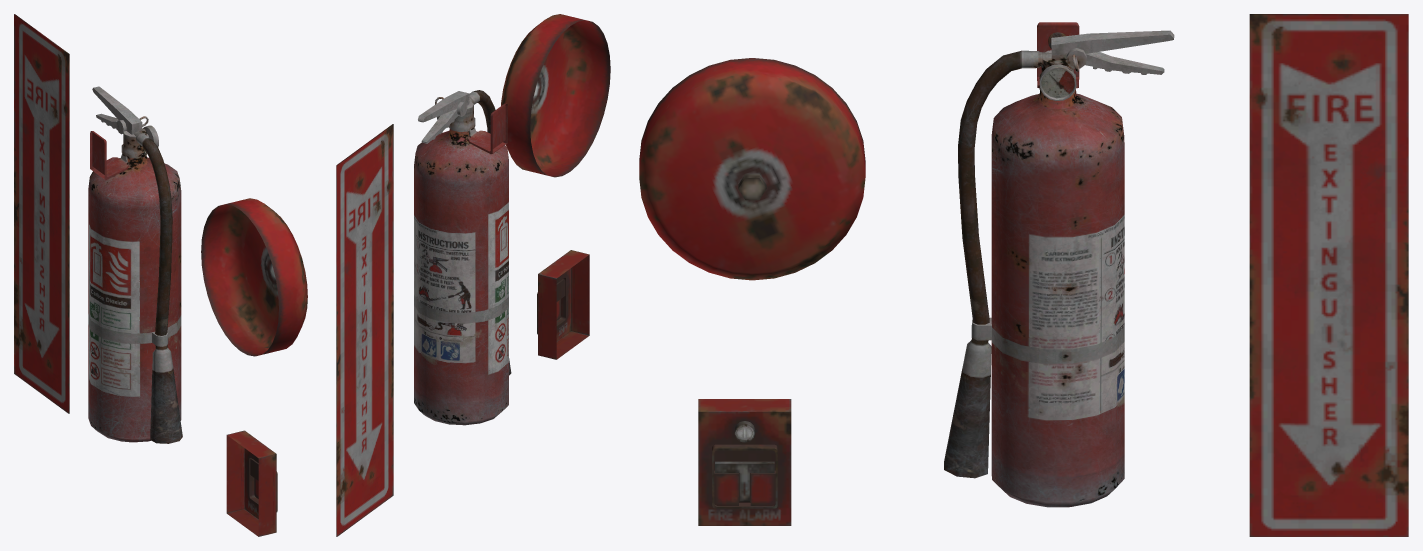
File: poppy_playtime_3_fire_extinguisher_pack.glb
3 views of the same model, side by side, from view 1: azimuth 30°, elevation 25°; view 2: azimuth 150°, elevation 25°; view 3: azimuth 270°, elevation 25° (orthographic). The views are drawn at different scales.
Visible parts, largest first — view 1: SM_Fire_Extinguisher.mo, SM_Fire_safety_Plane.mo, SM_Fire_safety_Bell.mo, SM_Fire_safety_Switch.mo; view 2: SM_Fire_Extinguisher.mo, SM_Fire_safety_Plane.mo, SM_Fire_safety_Bell.mo, SM_Fire_safety_Switch.mo; view 3: SM_Fire_safety_Plane.mo, SM_Fire_Extinguisher.mo, SM_Fire_safety_Bell.mo, SM_Fire_safety_Switch.mo.
Boxes of the visible parts, x1,y1,x2,y2 form: SM_Fire_Extinguisher.mo: (88, 86, 182, 443); SM_Fire_safety_Plane.mo: (14, 14, 69, 413); SM_Fire_safety_Bell.mo: (201, 198, 307, 356); SM_Fire_safety_Switch.mo: (226, 430, 277, 536); SM_Fire_Extinguisher.mo: (414, 90, 511, 425); SM_Fire_safety_Plane.mo: (336, 124, 393, 536); SM_Fire_safety_Bell.mo: (501, 14, 610, 177); SM_Fire_safety_Switch.mo: (537, 250, 589, 359); SM_Fire_safety_Plane.mo: (1249, 14, 1408, 536); SM_Fire_Extinguisher.mo: (944, 22, 1174, 507); SM_Fire_safety_Bell.mo: (639, 58, 865, 280); SM_Fire_safety_Switch.mo: (698, 399, 791, 525).
Size of the model in its own units: 0.1588 by 0.681 by 0.9091.
Materials: 4 (4 with a texture image).
